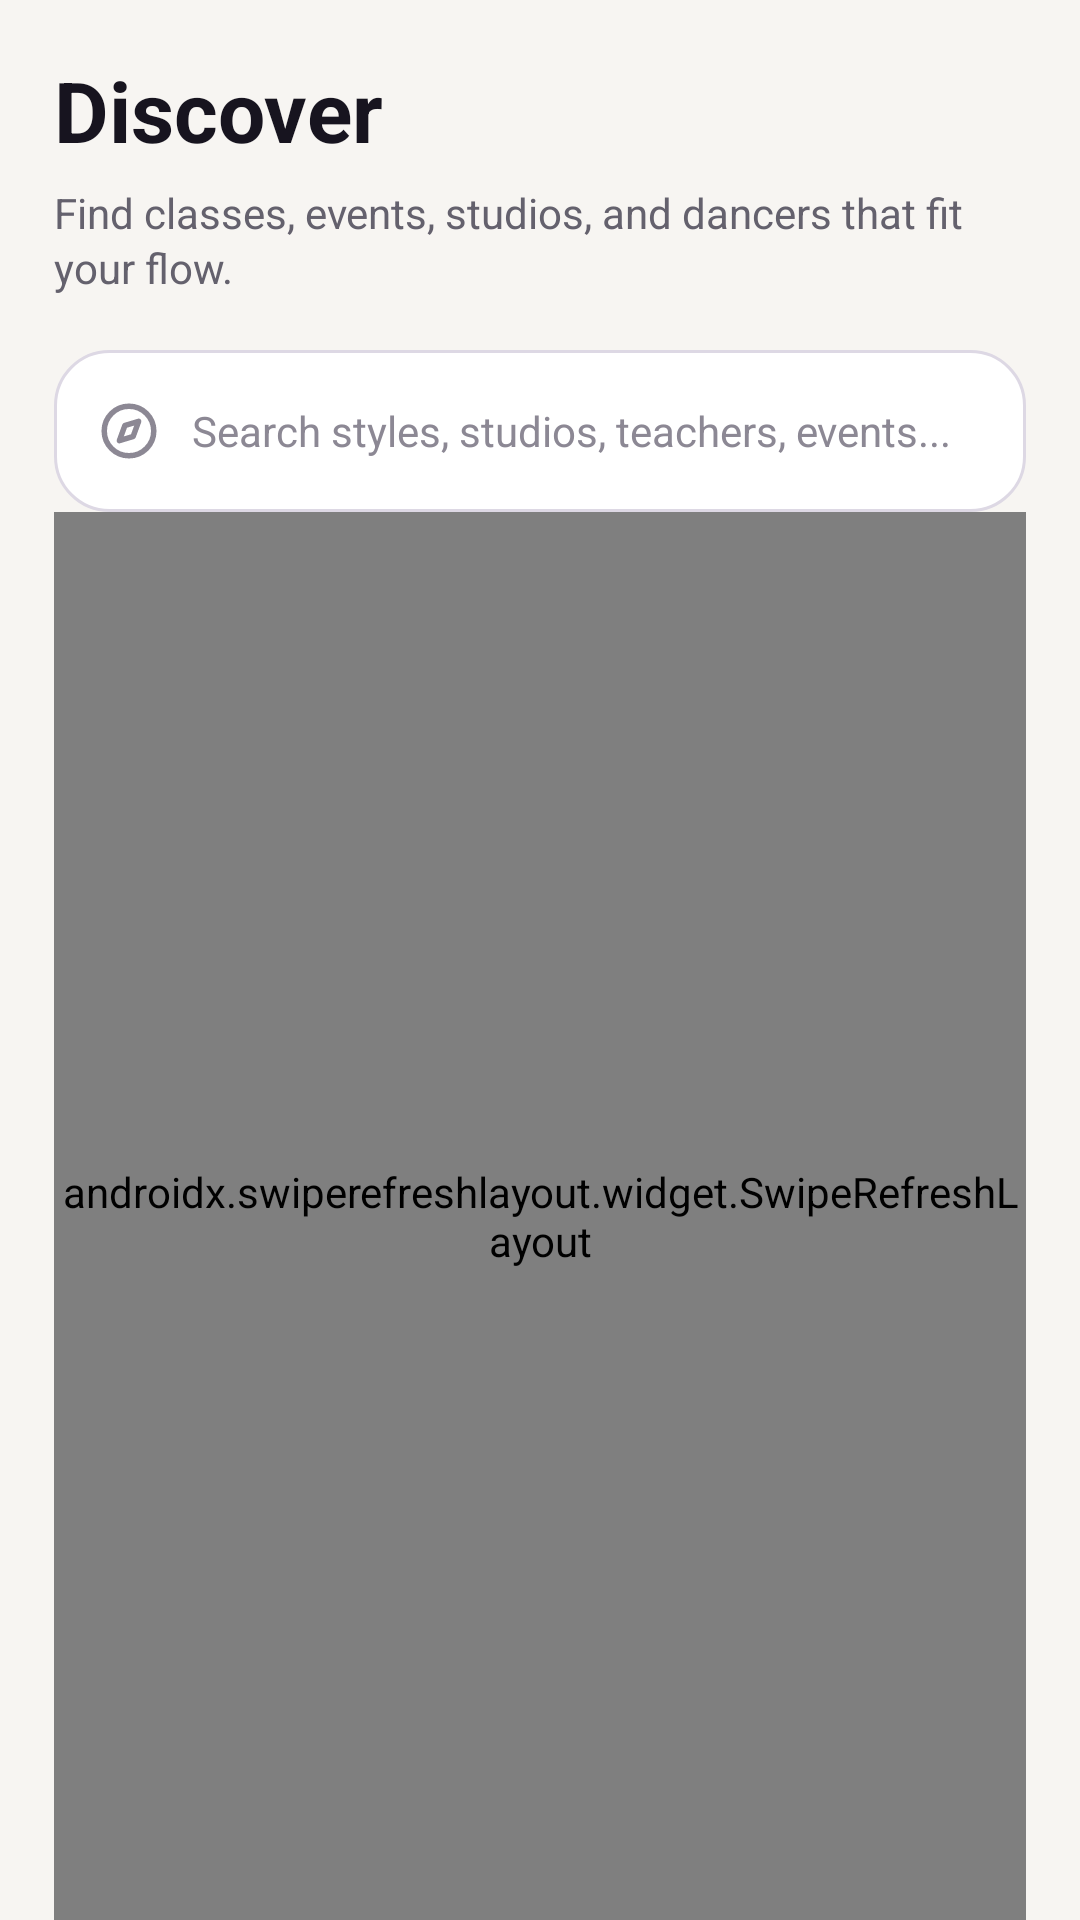

Point at icon controls on the screen. Image size 1080*1920, points as (x=x, y=y).
discover: (x=129, y=431)
